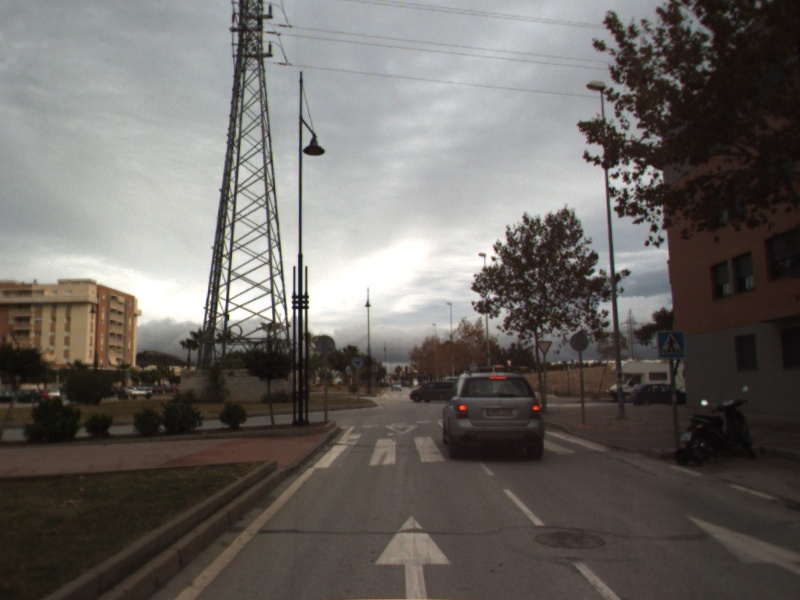STRAIGHT: (684, 513, 800, 577), (371, 513, 455, 600)
